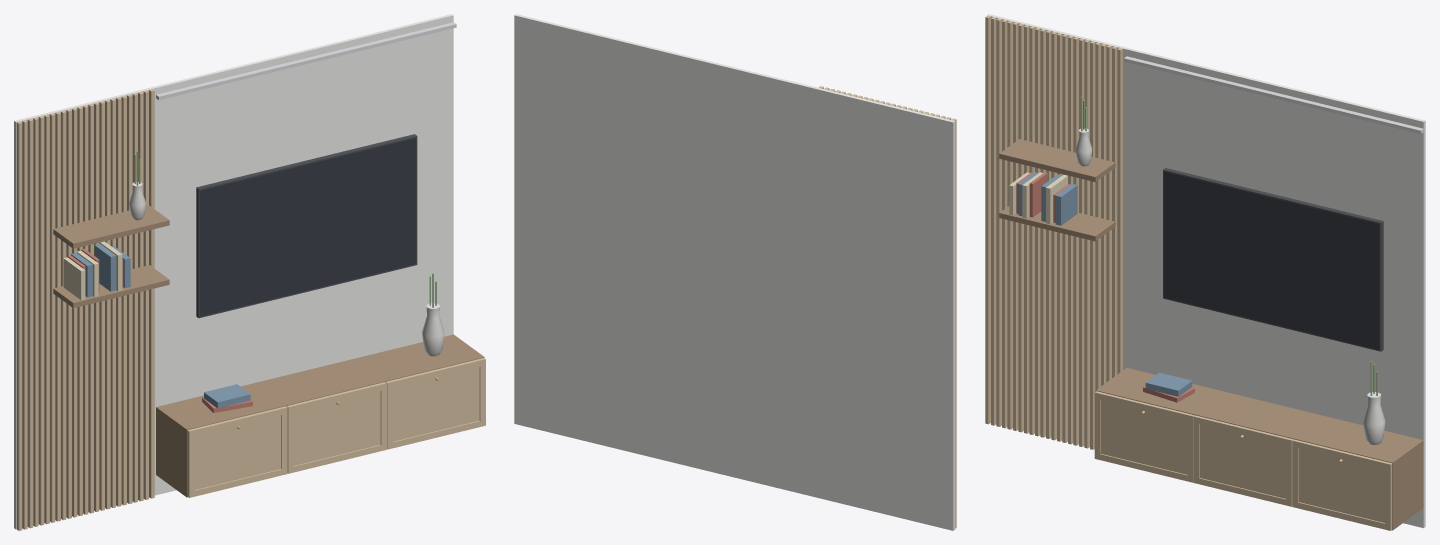
3 renders of one model, left to right at view 1: azimuth 30°, elevation 25°; view 2: azimuth 150°, elevation 25°; view 3: azimuth 330°, elevation 25°, orthographic.
Visible parts, largest first — view 1: Vách tivi Dài=2700; Sâu=350; view 2: Vách tivi Dài=2700; Sâu=350; view 3: Vách tivi Dài=2700; Sâu=350.
Part boxes in pixels (left/top/right/bottom): Vách tivi Dài=2700; Sâu=350: left=14, top=14, right=485, bottom=530; Vách tivi Dài=2700; Sâu=350: left=514, top=14, right=956, bottom=530; Vách tivi Dài=2700; Sâu=350: left=985, top=14, right=1425, bottom=530.
Size of the model in its own units: 2.7 by 2.4 by 0.39.
